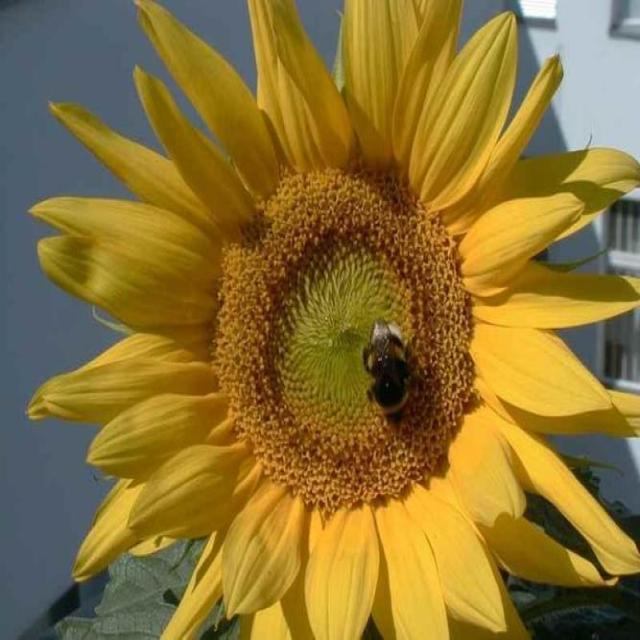sunflower: (23, 0, 638, 640)
